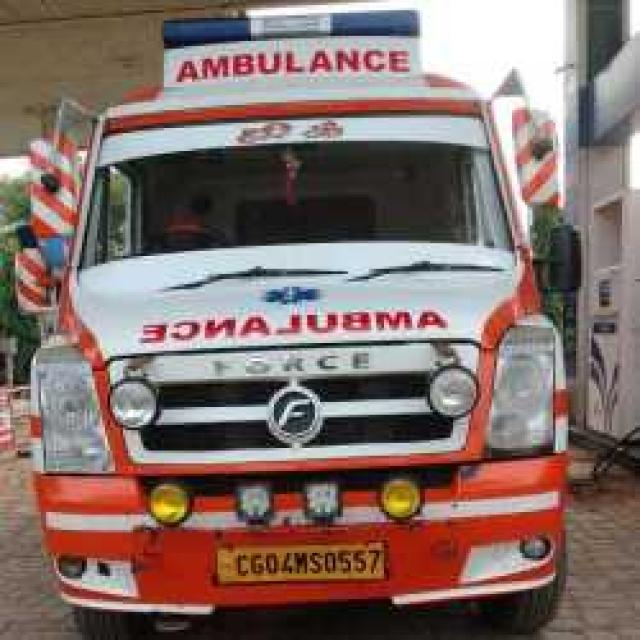Ambulance: (19, 5, 594, 640)
